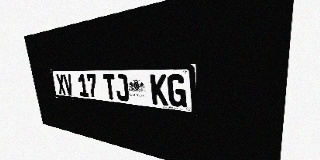1: (77, 74, 89, 97)
7: (86, 74, 99, 98)
G: (167, 74, 187, 108)
J: (114, 74, 129, 102)
K: (150, 74, 168, 106)
T: (103, 74, 117, 100)
V: (63, 74, 74, 96)
X: (56, 74, 66, 95)
